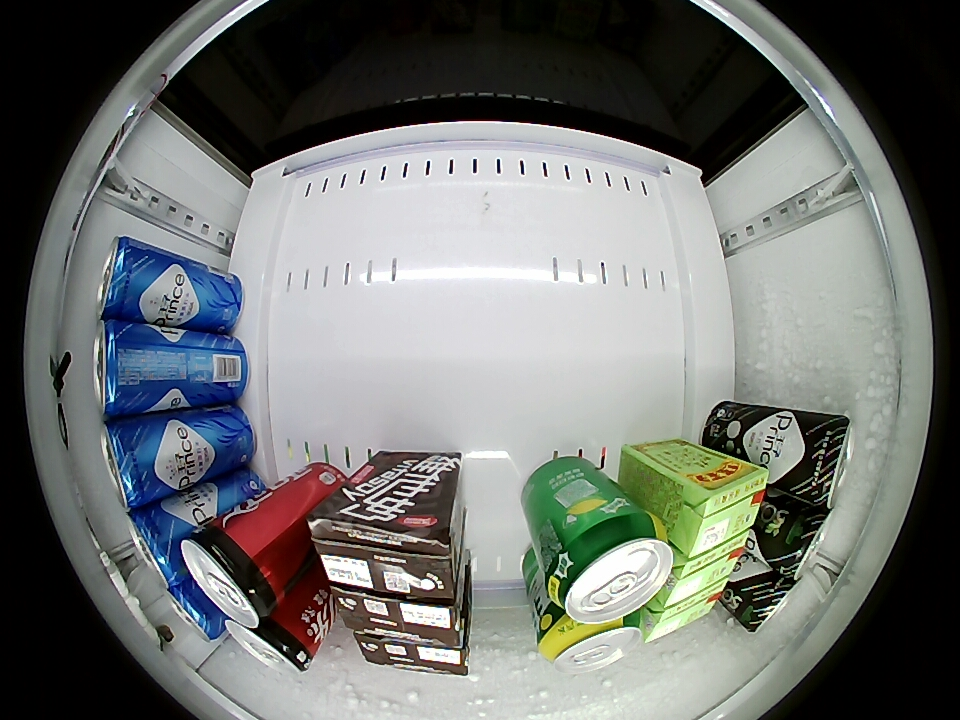lingdukele: (180, 522, 286, 630), (224, 611, 315, 677)
qingdaowangzi-1: (793, 414, 853, 507), (763, 502, 834, 578), (732, 568, 800, 634)
qingdaowangzi-2: (94, 321, 159, 416), (100, 417, 165, 509), (125, 506, 190, 588), (96, 236, 156, 322), (164, 579, 225, 641)
wanglaoji: (669, 460, 770, 557), (660, 529, 754, 607), (641, 581, 727, 645)
weitanai2: (308, 495, 458, 598), (332, 587, 467, 645), (355, 634, 471, 675)
xuebi2: (545, 508, 672, 624), (537, 614, 642, 675)
